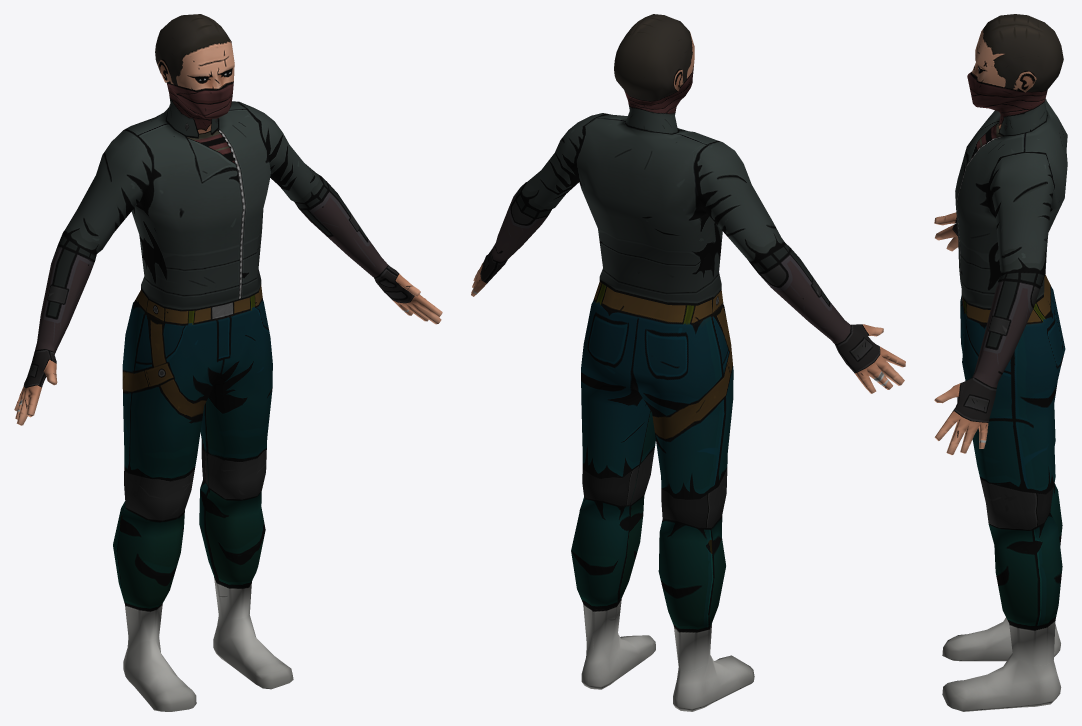
The model's file is mod_char_player01.fbx.
The picture shows the model from 3 angles, left to right: view 1: azimuth 30°, elevation 25°; view 2: azimuth 150°, elevation 25°; view 3: azimuth 270°, elevation 25°; orthographic projection.
Parts seen in each view (by area): view 1: mod_char_player01; view 2: mod_char_player01; view 3: mod_char_player01.
Boxes of the visible parts, bbox=[...] form: mod_char_player01: bbox=[14, 14, 442, 711]; mod_char_player01: bbox=[471, 14, 905, 711]; mod_char_player01: bbox=[934, 14, 1067, 711].
Bounding box in the file's own units: 120 × 178 × 32.52.
